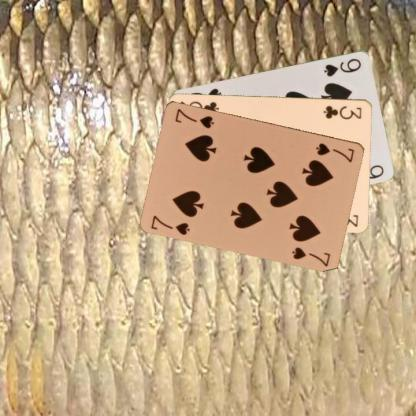3c: (321, 103, 363, 120)
7s: (148, 213, 192, 236), (313, 140, 356, 163)
9s: (321, 56, 363, 77)
